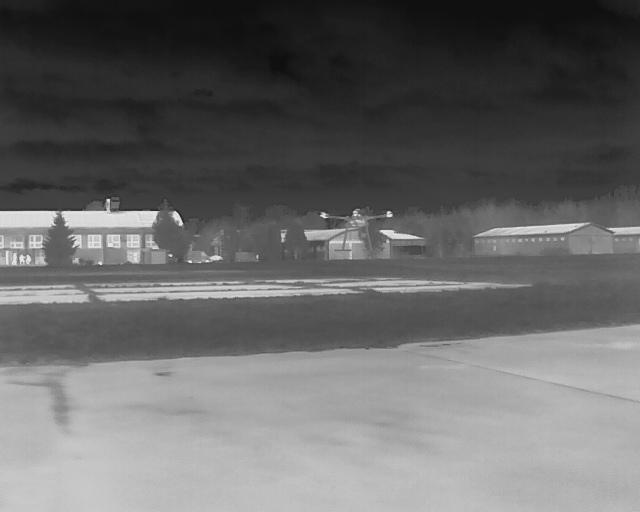drone: (301, 206, 402, 264)
